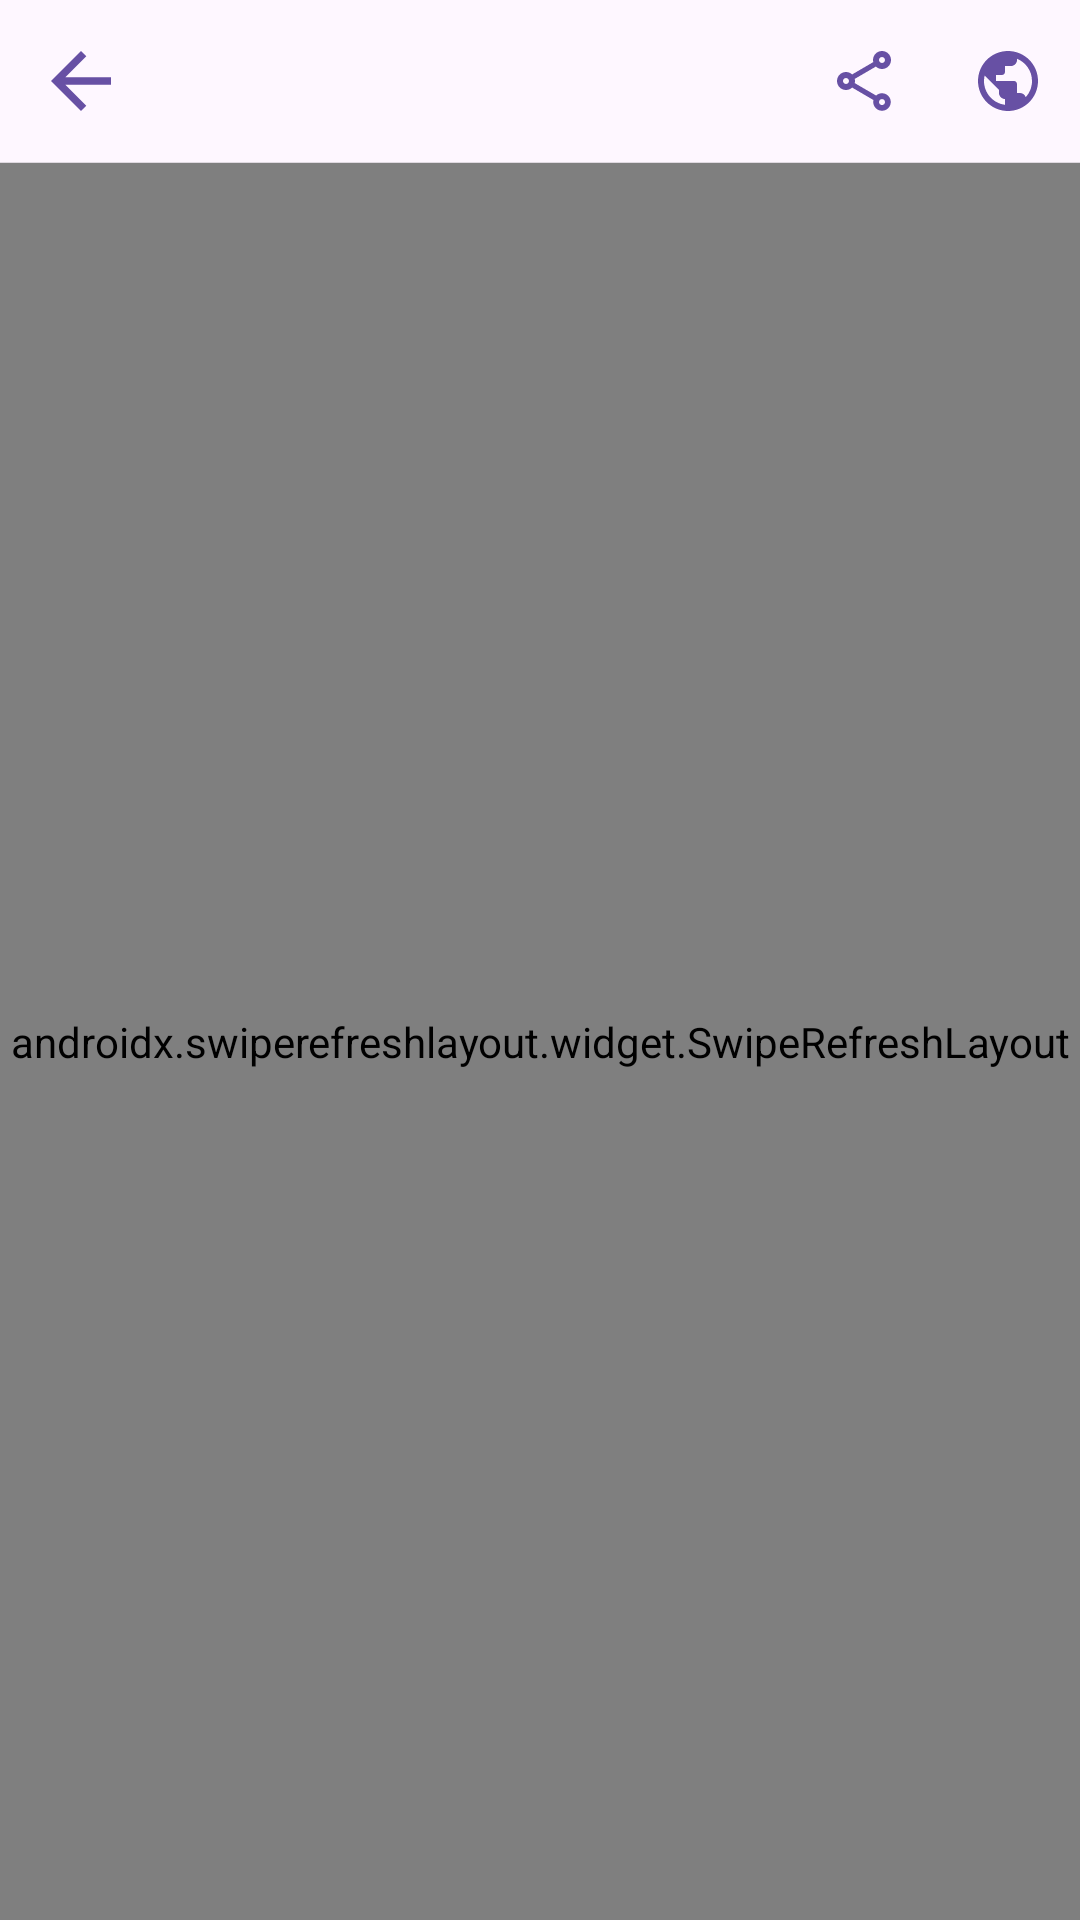

Point at icon controls on the screen. Image size 1080px×1920px, points as (x,y).
Navigate back: (81,81)
Open in browser: (1008,81)
Share: (864,81)
